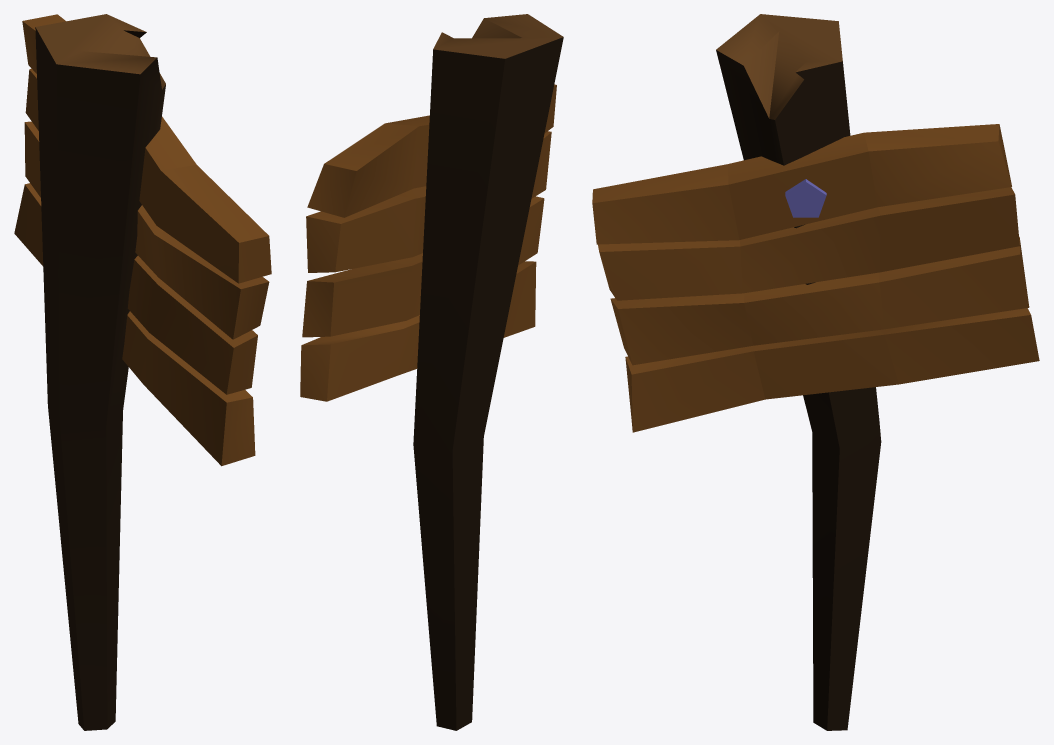
The model's file is WoodSign.fbx.
The picture shows the model from 3 angles, left to right: view 1: azimuth 30°, elevation 25°; view 2: azimuth 150°, elevation 25°; view 3: azimuth 270°, elevation 25°; orthographic projection. The views are drawn at different scales.
Visible parts, largest first — view 1: matchsize1; view 2: matchsize1; view 3: matchsize1.
Part boxes in pixels (x1,y1,x2,y2): matchsize1: (14, 14, 271, 730); matchsize1: (300, 14, 563, 730); matchsize1: (592, 14, 1039, 730).
Bounding box in the file's own units: 0.757 × 3.78 × 2.26.
